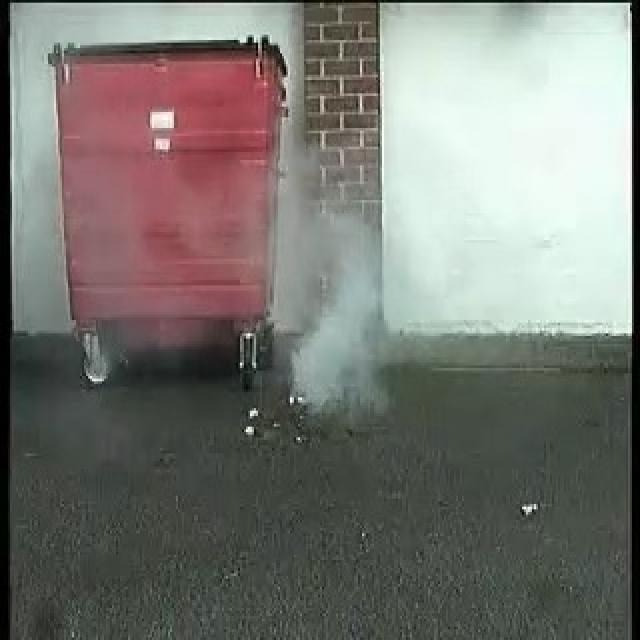smoke: (280, 153, 394, 412)
